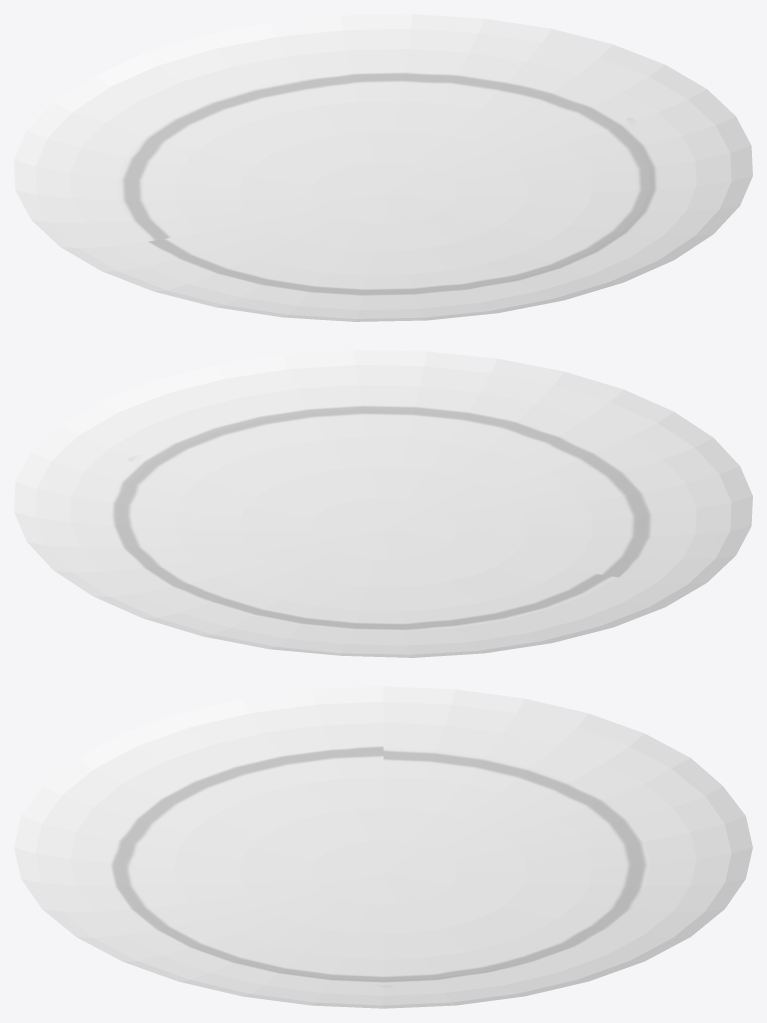
The model's file is plate.gltf.
The picture shows the model from 3 angles, top to bottom: view 1: azimuth 30°, elevation 25°; view 2: azimuth 150°, elevation 25°; view 3: azimuth 270°, elevation 25°; orthographic projection. The views are drawn at different scales.
Parts seen in each view (by area): view 1: PLate; view 2: PLate; view 3: PLate.
Boxes of the visible parts, bbox=[...] form: PLate: bbox=[14, 14, 752, 321]; PLate: bbox=[14, 350, 752, 657]; PLate: bbox=[14, 686, 752, 1008].
Size of the model in its own units: 3.96 by 0.1501 by 3.84.
Materials: 1 (1 with a texture image).
